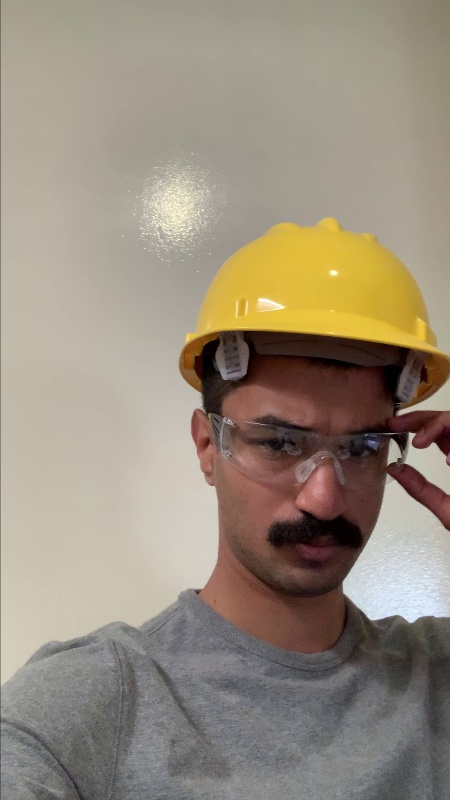glasses: (218, 410, 409, 486)
helmet: (183, 214, 444, 360)
